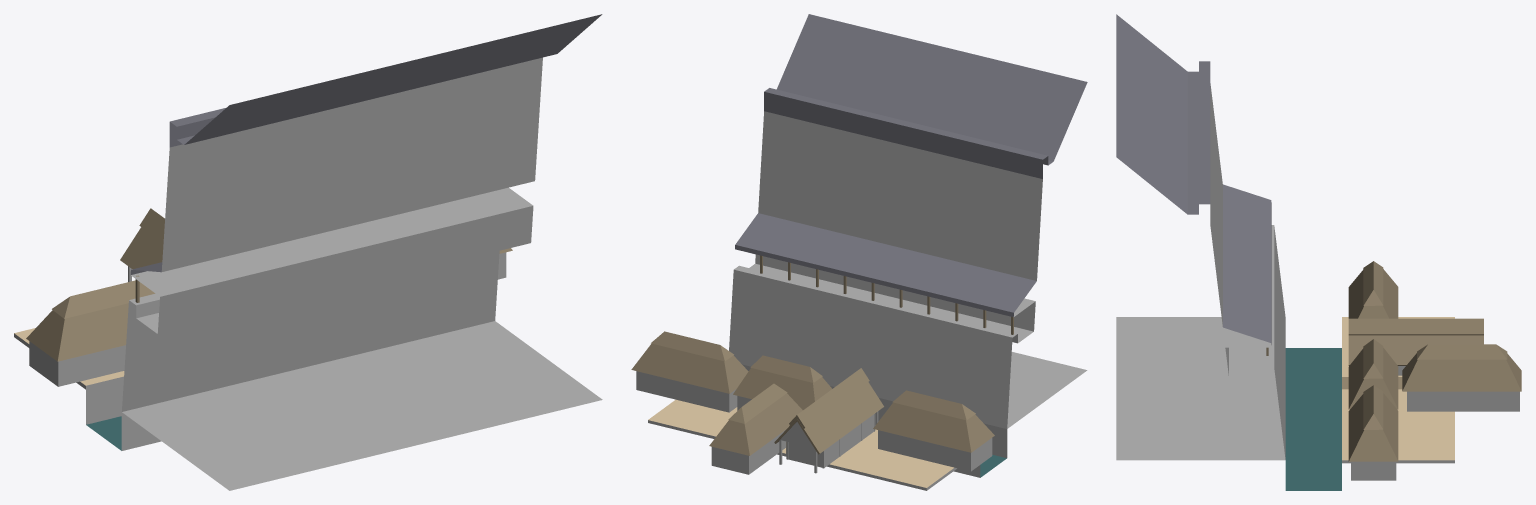
3 views of the same model, side by side, from view 1: azimuth 30°, elevation 25°; view 2: azimuth 150°, elevation 25°; view 3: azimuth 270°, elevation 25° (orthographic). The views are drawn at different scales.
Visible parts, largest first — view 1: 11cc; view 2: 11cc; view 3: 11cc.
Boxes of the visible parts, x1=… form: 11cc: x1=14, y1=14, x2=602, y2=490; 11cc: x1=631, y1=14, x2=1087, y2=490; 11cc: x1=1116, y1=14, x2=1521, y2=490.
Bounding box in the file's own units: 36.59 × 32.63 × 35.92.
